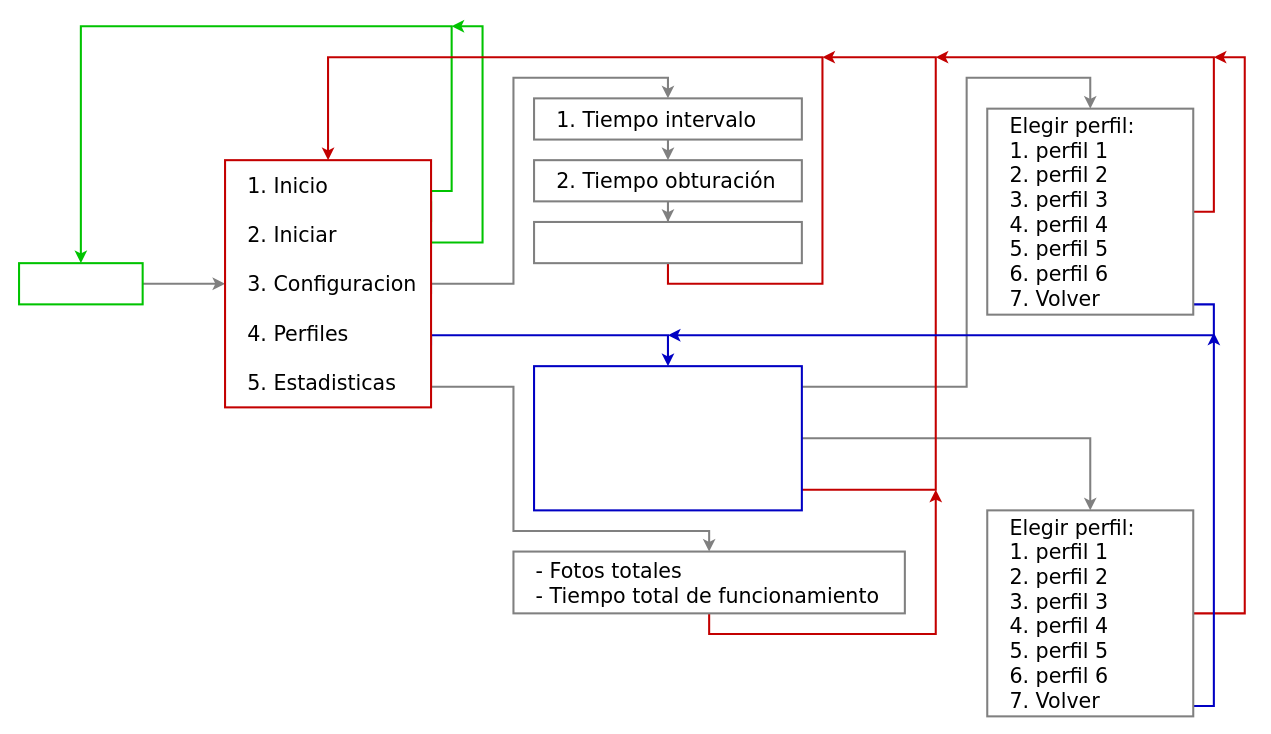
The diagram is 1271 pixels wide and 734 high, and some of its shapes have lost their labels. The shapes that lost their labels are listed below. From the top down, each one's box as (x1, y1, x2, y2) in pixels, then its label:
(533, 220, 802, 264): 3. Limite de fotos
(18, 262, 143, 305): Inicio
(533, 365, 802, 511): 1. Cargar perfil 2. Guardar perfil 3 . Volver
